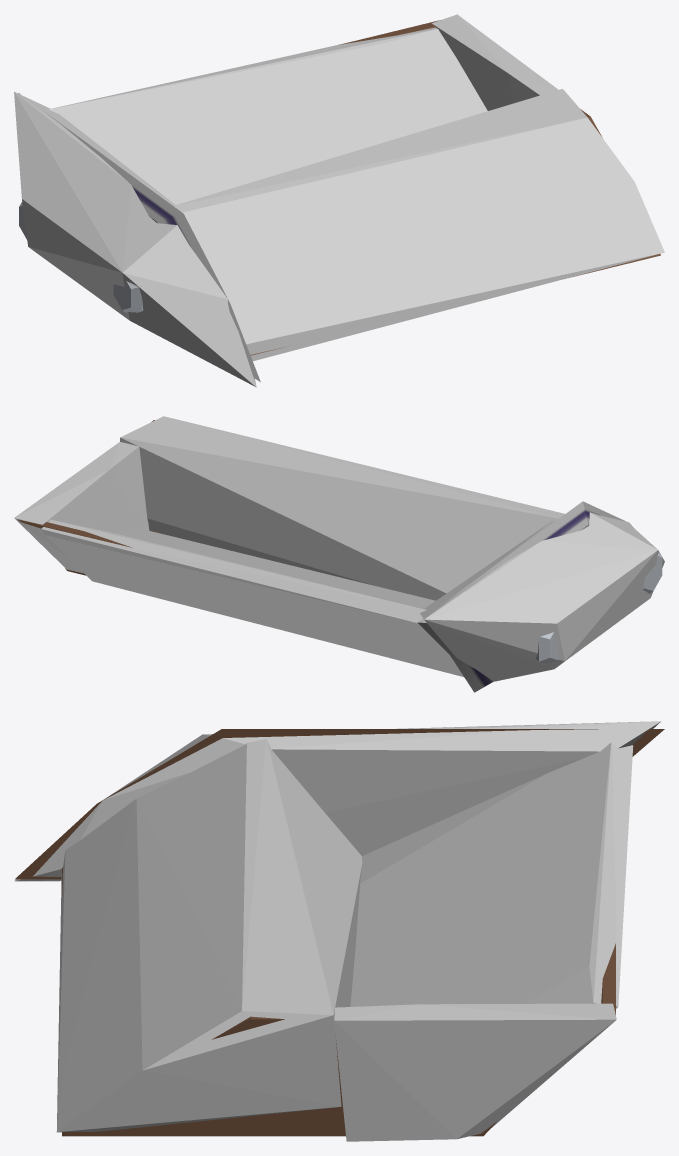
Rendered from SM_Prop_Desk_01_Drawer_r_01.fbx.
3 renders of one model, top to bottom at view 1: azimuth 30°, elevation 25°; view 2: azimuth 150°, elevation 25°; view 3: azimuth 270°, elevation 25°, orthographic. The views are drawn at different scales.
Visible parts, largest first — view 1: SM_Prop_Desk_01_Drawer_r_01_ConvexHulls, SM_Prop_Desk_01_Drawer_r_01; view 2: SM_Prop_Desk_01_Drawer_r_01_ConvexHulls, SM_Prop_Desk_01_Drawer_r_01; view 3: SM_Prop_Desk_01_Drawer_r_01_ConvexHulls, SM_Prop_Desk_01_Drawer_r_01.
Boxes of the visible parts, left/top/right/bottom form: SM_Prop_Desk_01_Drawer_r_01_ConvexHulls: left=14, top=14, right=664, bottom=387; SM_Prop_Desk_01_Drawer_r_01: left=18, top=20, right=660, bottom=381; SM_Prop_Desk_01_Drawer_r_01_ConvexHulls: left=14, top=416, right=664, bottom=681; SM_Prop_Desk_01_Drawer_r_01: left=18, top=420, right=662, bottom=692; SM_Prop_Desk_01_Drawer_r_01_ConvexHulls: left=14, top=721, right=660, bottom=1141; SM_Prop_Desk_01_Drawer_r_01: left=15, top=729, right=664, bottom=1136.
Size of the model in its own units: 60.92 by 52.27 by 14.15.
Materials: 2 (1 with a texture image).
